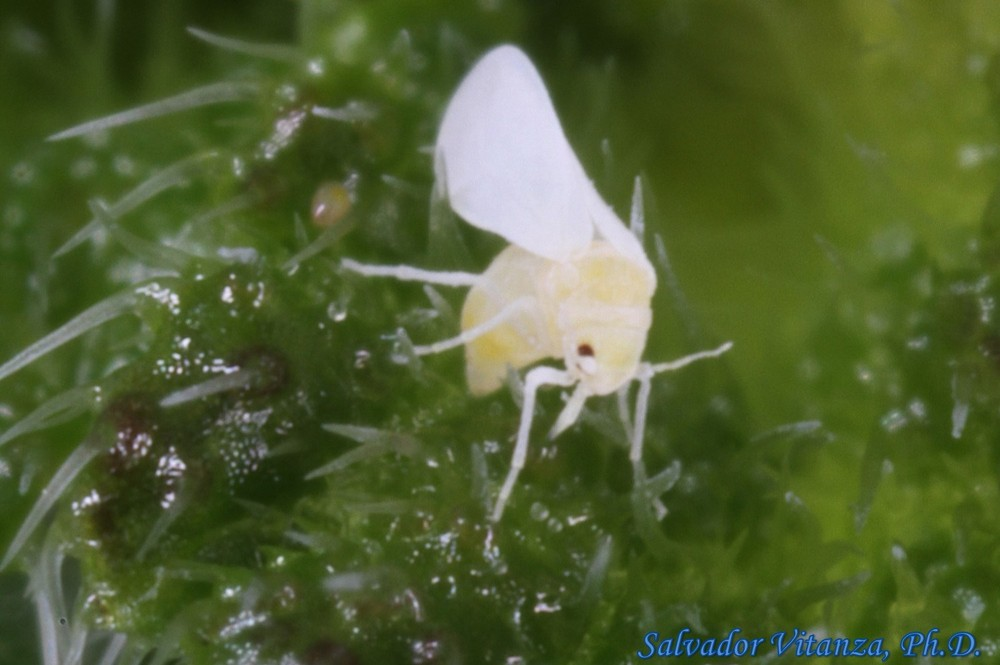Mosca Blanca: (398, 35, 722, 540)
